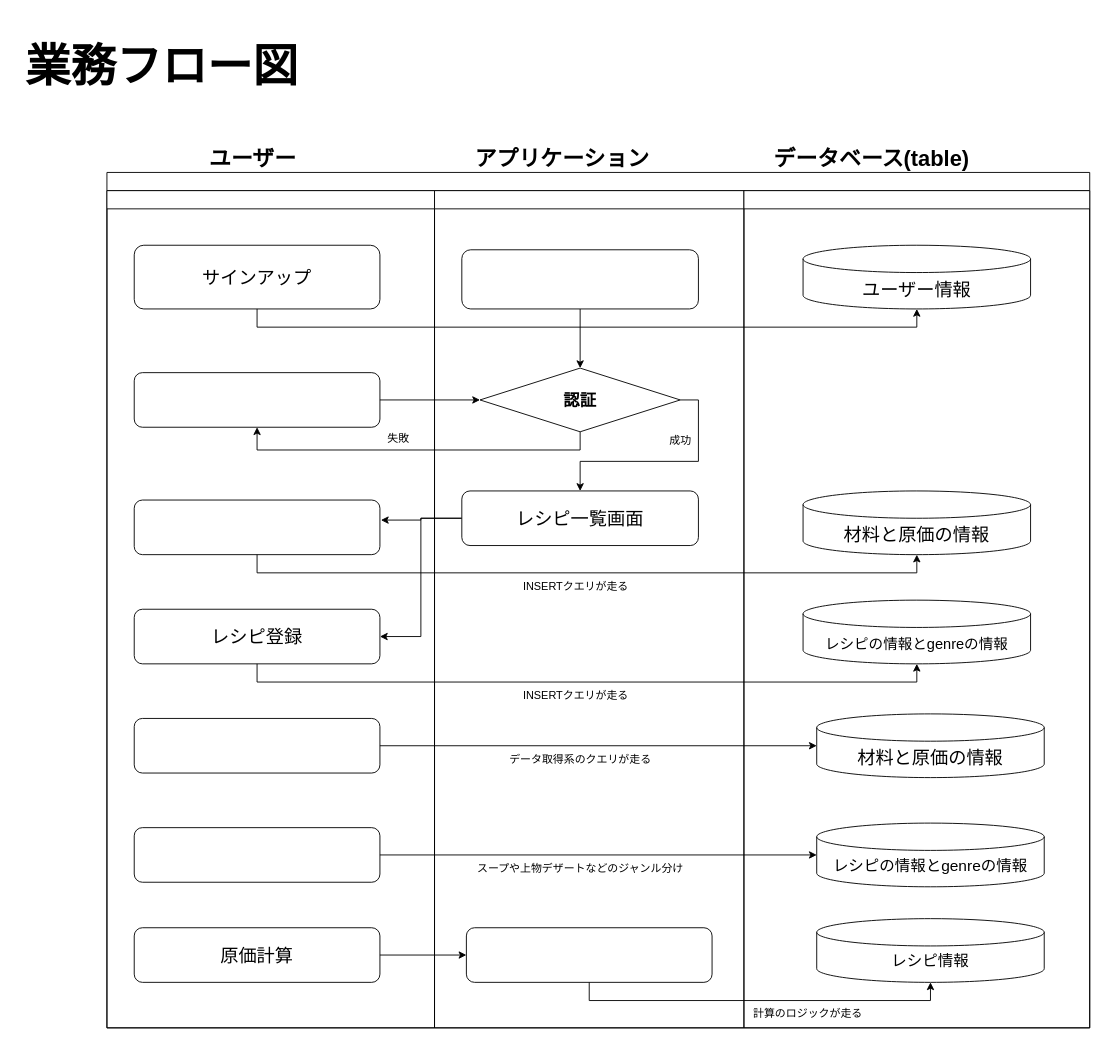
Image size: 1106x1044. Some labels were removed from this diagram. Each missing label, with the box of its shape:
レシピジャンル分け検索: (133, 827, 380, 882)
ログイン: (133, 372, 380, 427)
数量と原価の計算: (465, 927, 712, 982)
材料と原価登録: (133, 499, 380, 555)
材料検索: (133, 718, 380, 773)
登録: (461, 249, 698, 309)
